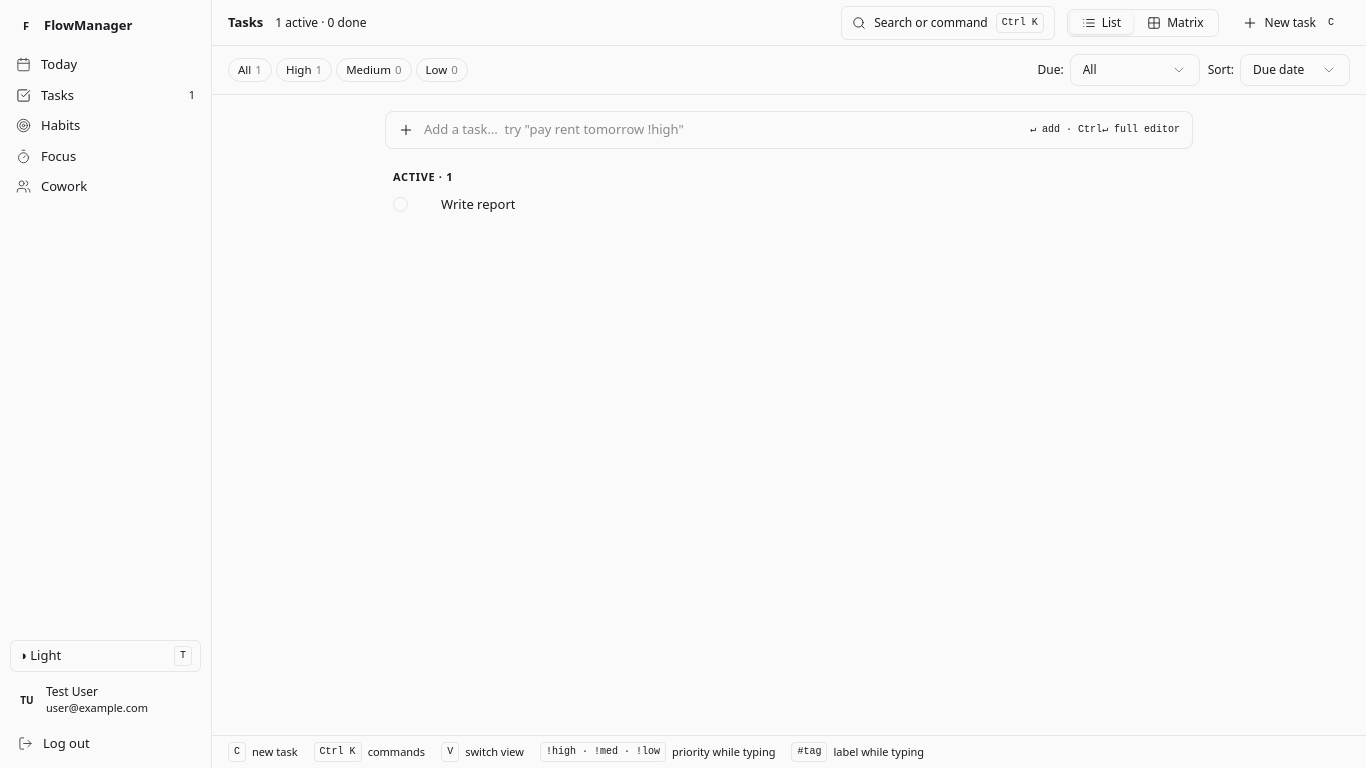
Test: TasksPage › jumps to a task from the palette search
Type keys "{Control>}k{/Control}"
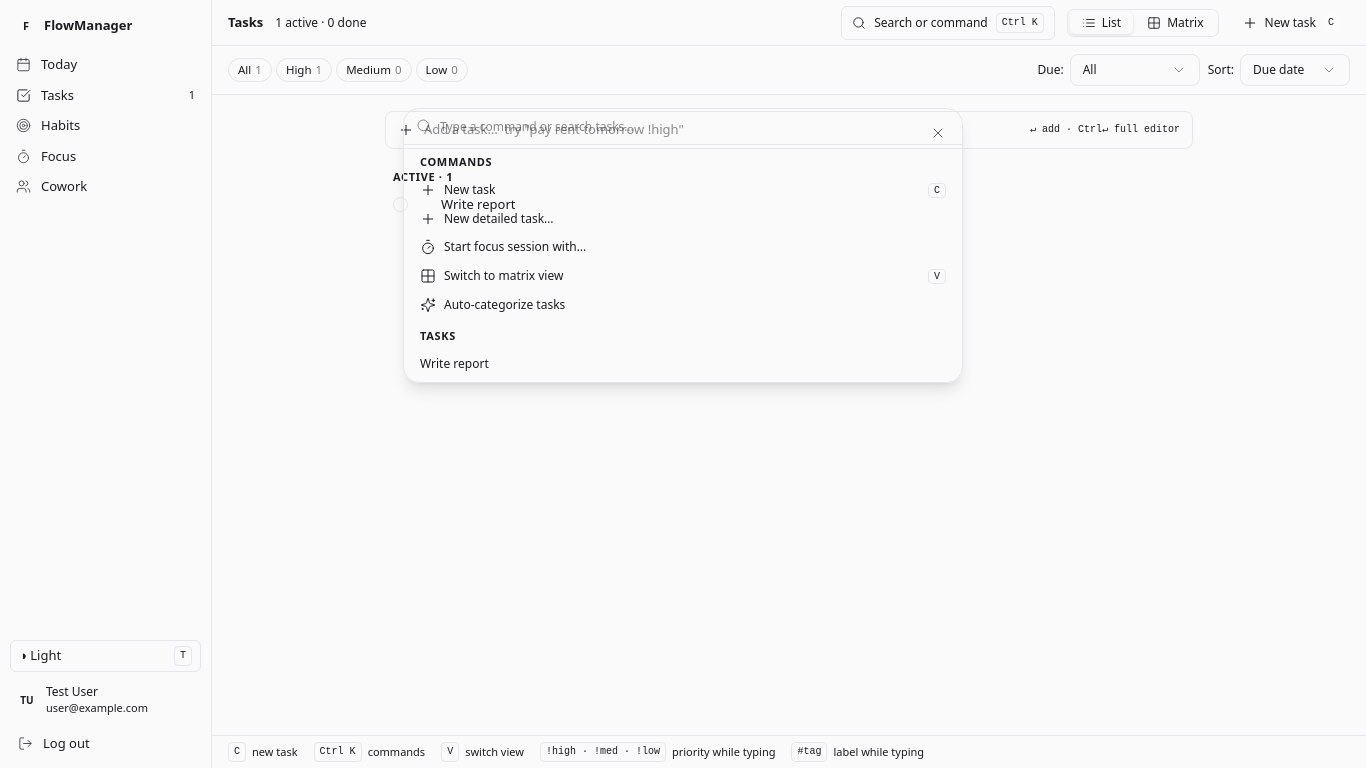
Type "Write rep" into the dropdown with placeholder "Type a command or search tasks…" at point(695, 126), box [440,106,950,146]
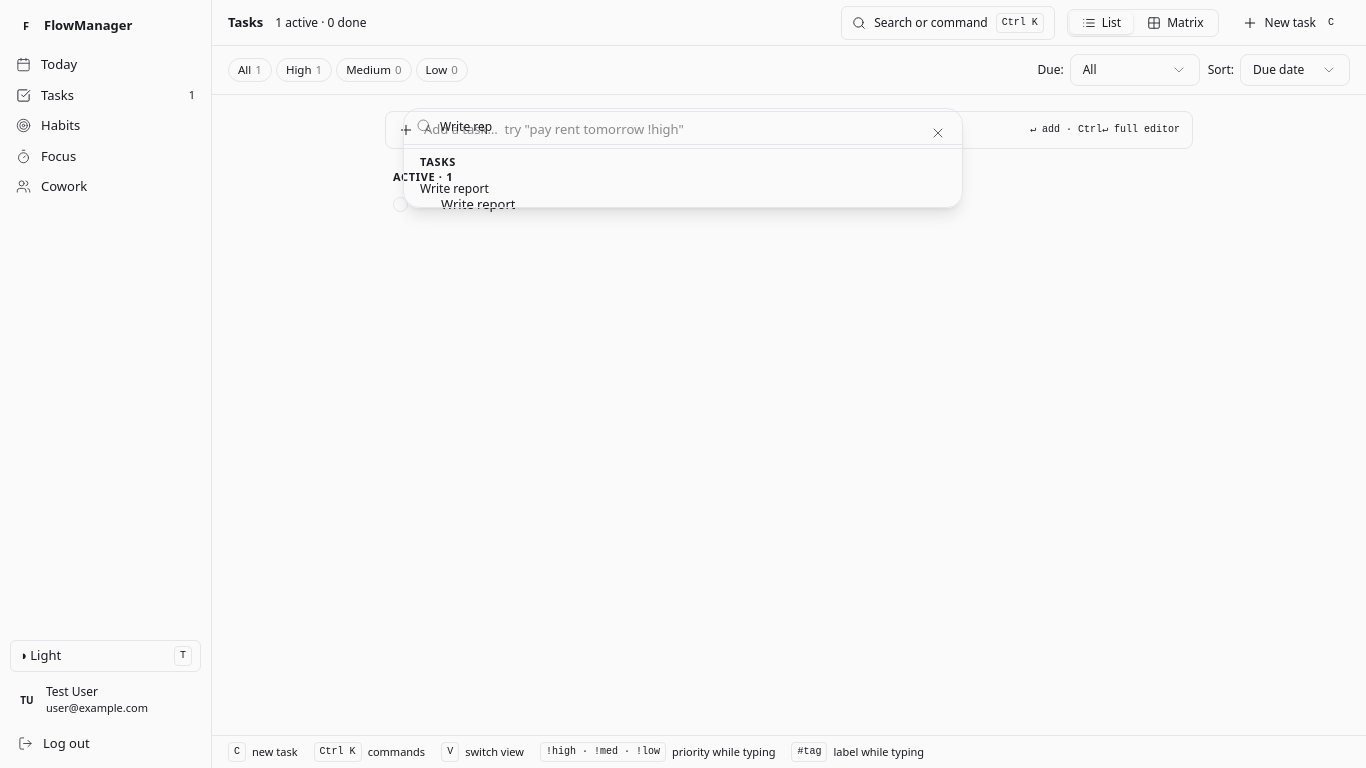
Click the option "Write report" at point(454, 189), box [420,180,489,197]
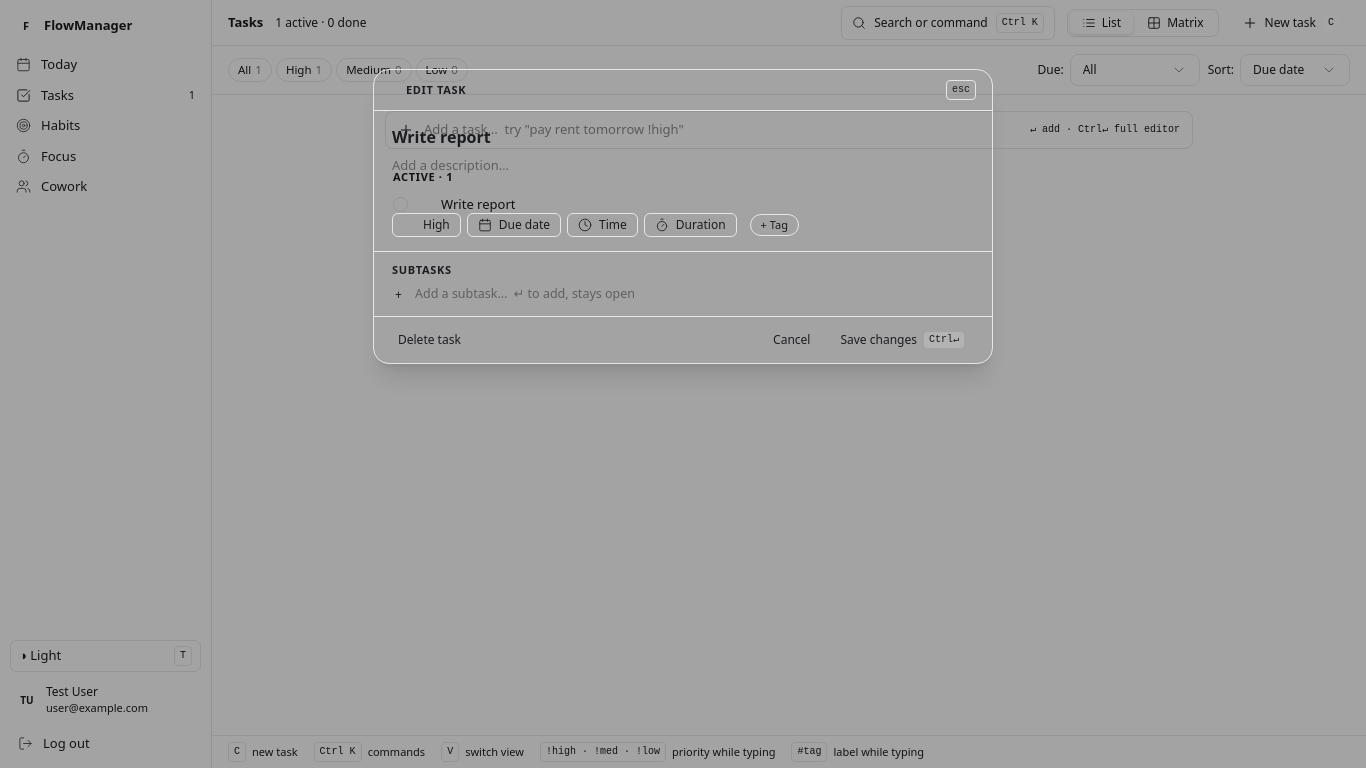
Check: the heading "Edit task" is shown, box [406,82,466,98]
